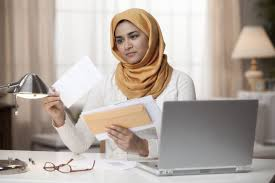middle_eastern_Female: (108, 21, 153, 64)
